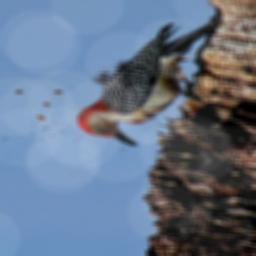Woodpecker: (75, 16, 225, 147)
